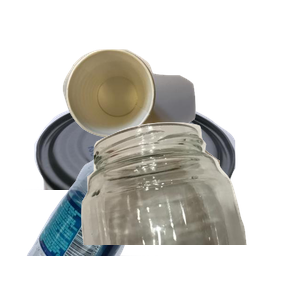glass: (74, 120, 300, 300)
metal: (16, 96, 244, 276)
plastic: (24, 120, 182, 300)
trash: (60, 47, 300, 227)
